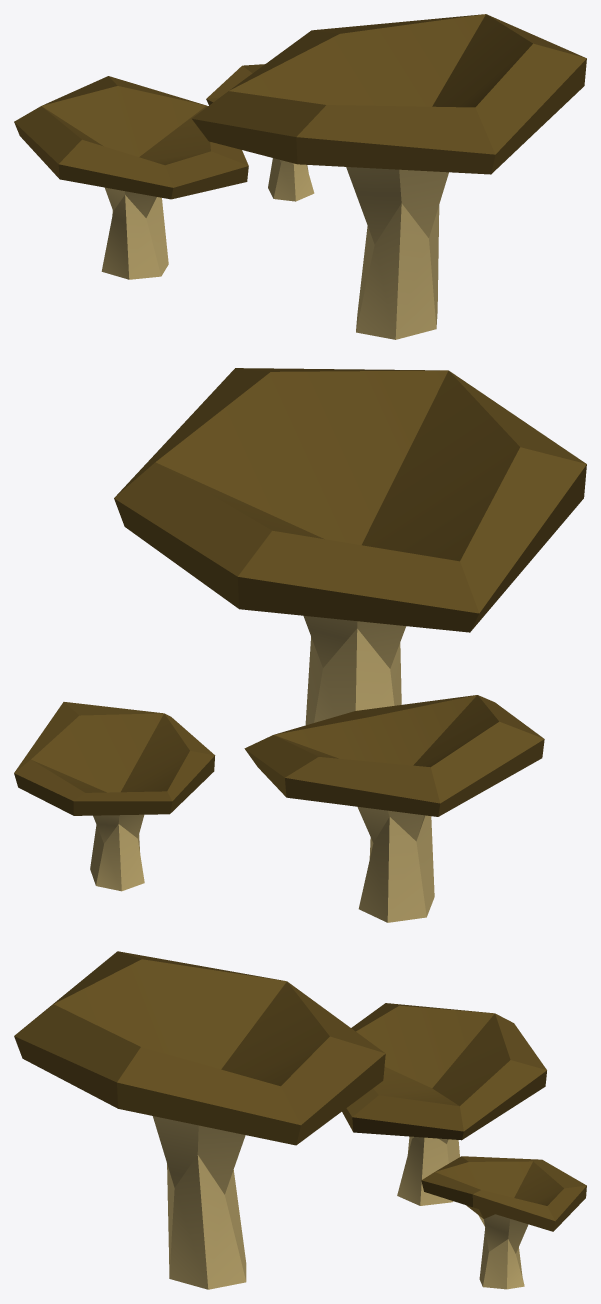
Rendered from FungusB.fbx.
The picture shows the model from 3 angles, top to bottom: view 1: azimuth 30°, elevation 25°; view 2: azimuth 150°, elevation 25°; view 3: azimuth 270°, elevation 25°; orthographic projection. The views are drawn at different scales.
Parts seen in each view (by area): view 1: FungusB; view 2: FungusB; view 3: FungusB.
Part boxes in pixels (x1,y1,x2,y2): FungusB: [14, 14, 586, 339]; FungusB: [14, 368, 586, 922]; FungusB: [14, 951, 586, 1289].
Bounding box in the file's own units: 23.1 × 15.55 × 29.29.
